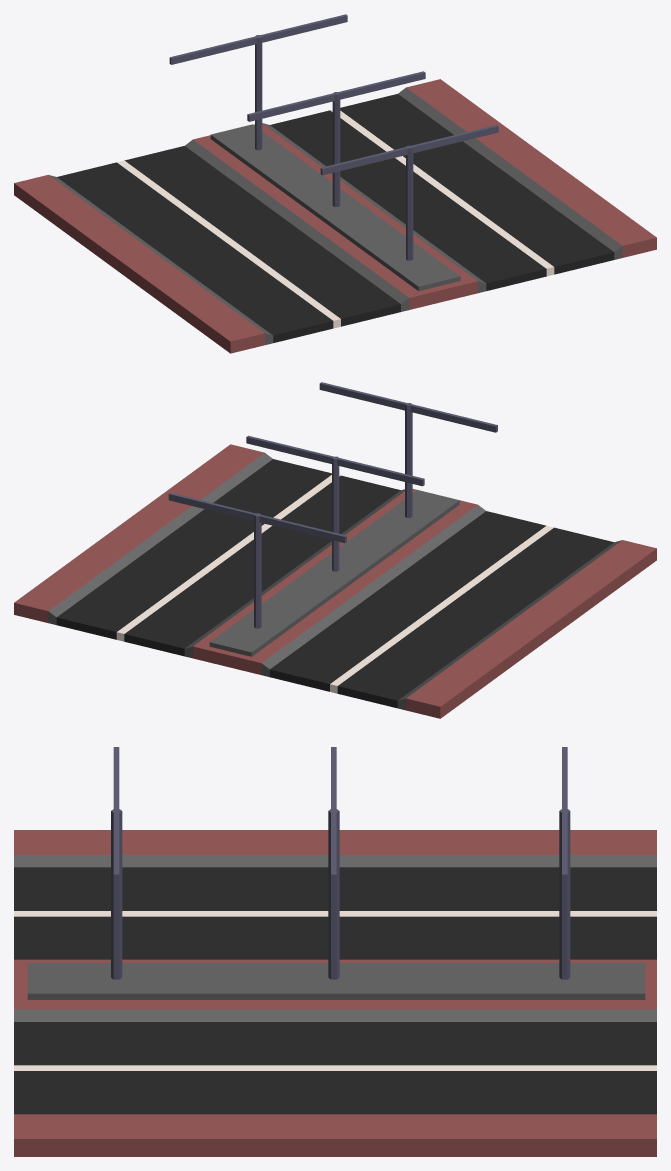
File: road (1).fbx
3 renders of one model, top to bottom at view 1: azimuth 30°, elevation 25°; view 2: azimuth 150°, elevation 25°; view 3: azimuth 270°, elevation 25°, orthographic. The views are drawn at different scales.
Visible parts, largest first — view 1: droga2, droga1, lampa; view 2: droga2, droga1, lampa; view 3: droga1, droga2, lampa.
Boxes of the visible parts, bbox=[...] form: droga2: bbox=[14, 135, 443, 353]; droga1: bbox=[253, 79, 656, 301]; lampa: bbox=[169, 14, 498, 291]; droga2: bbox=[227, 500, 656, 718]; droga1: bbox=[14, 444, 416, 666]; lampa: bbox=[168, 382, 497, 656]; droga1: bbox=[14, 984, 656, 1156]; droga2: bbox=[14, 830, 656, 984]; lampa: bbox=[27, 747, 645, 999].
Size of the model in its own units: 500 by 145 by 439.
